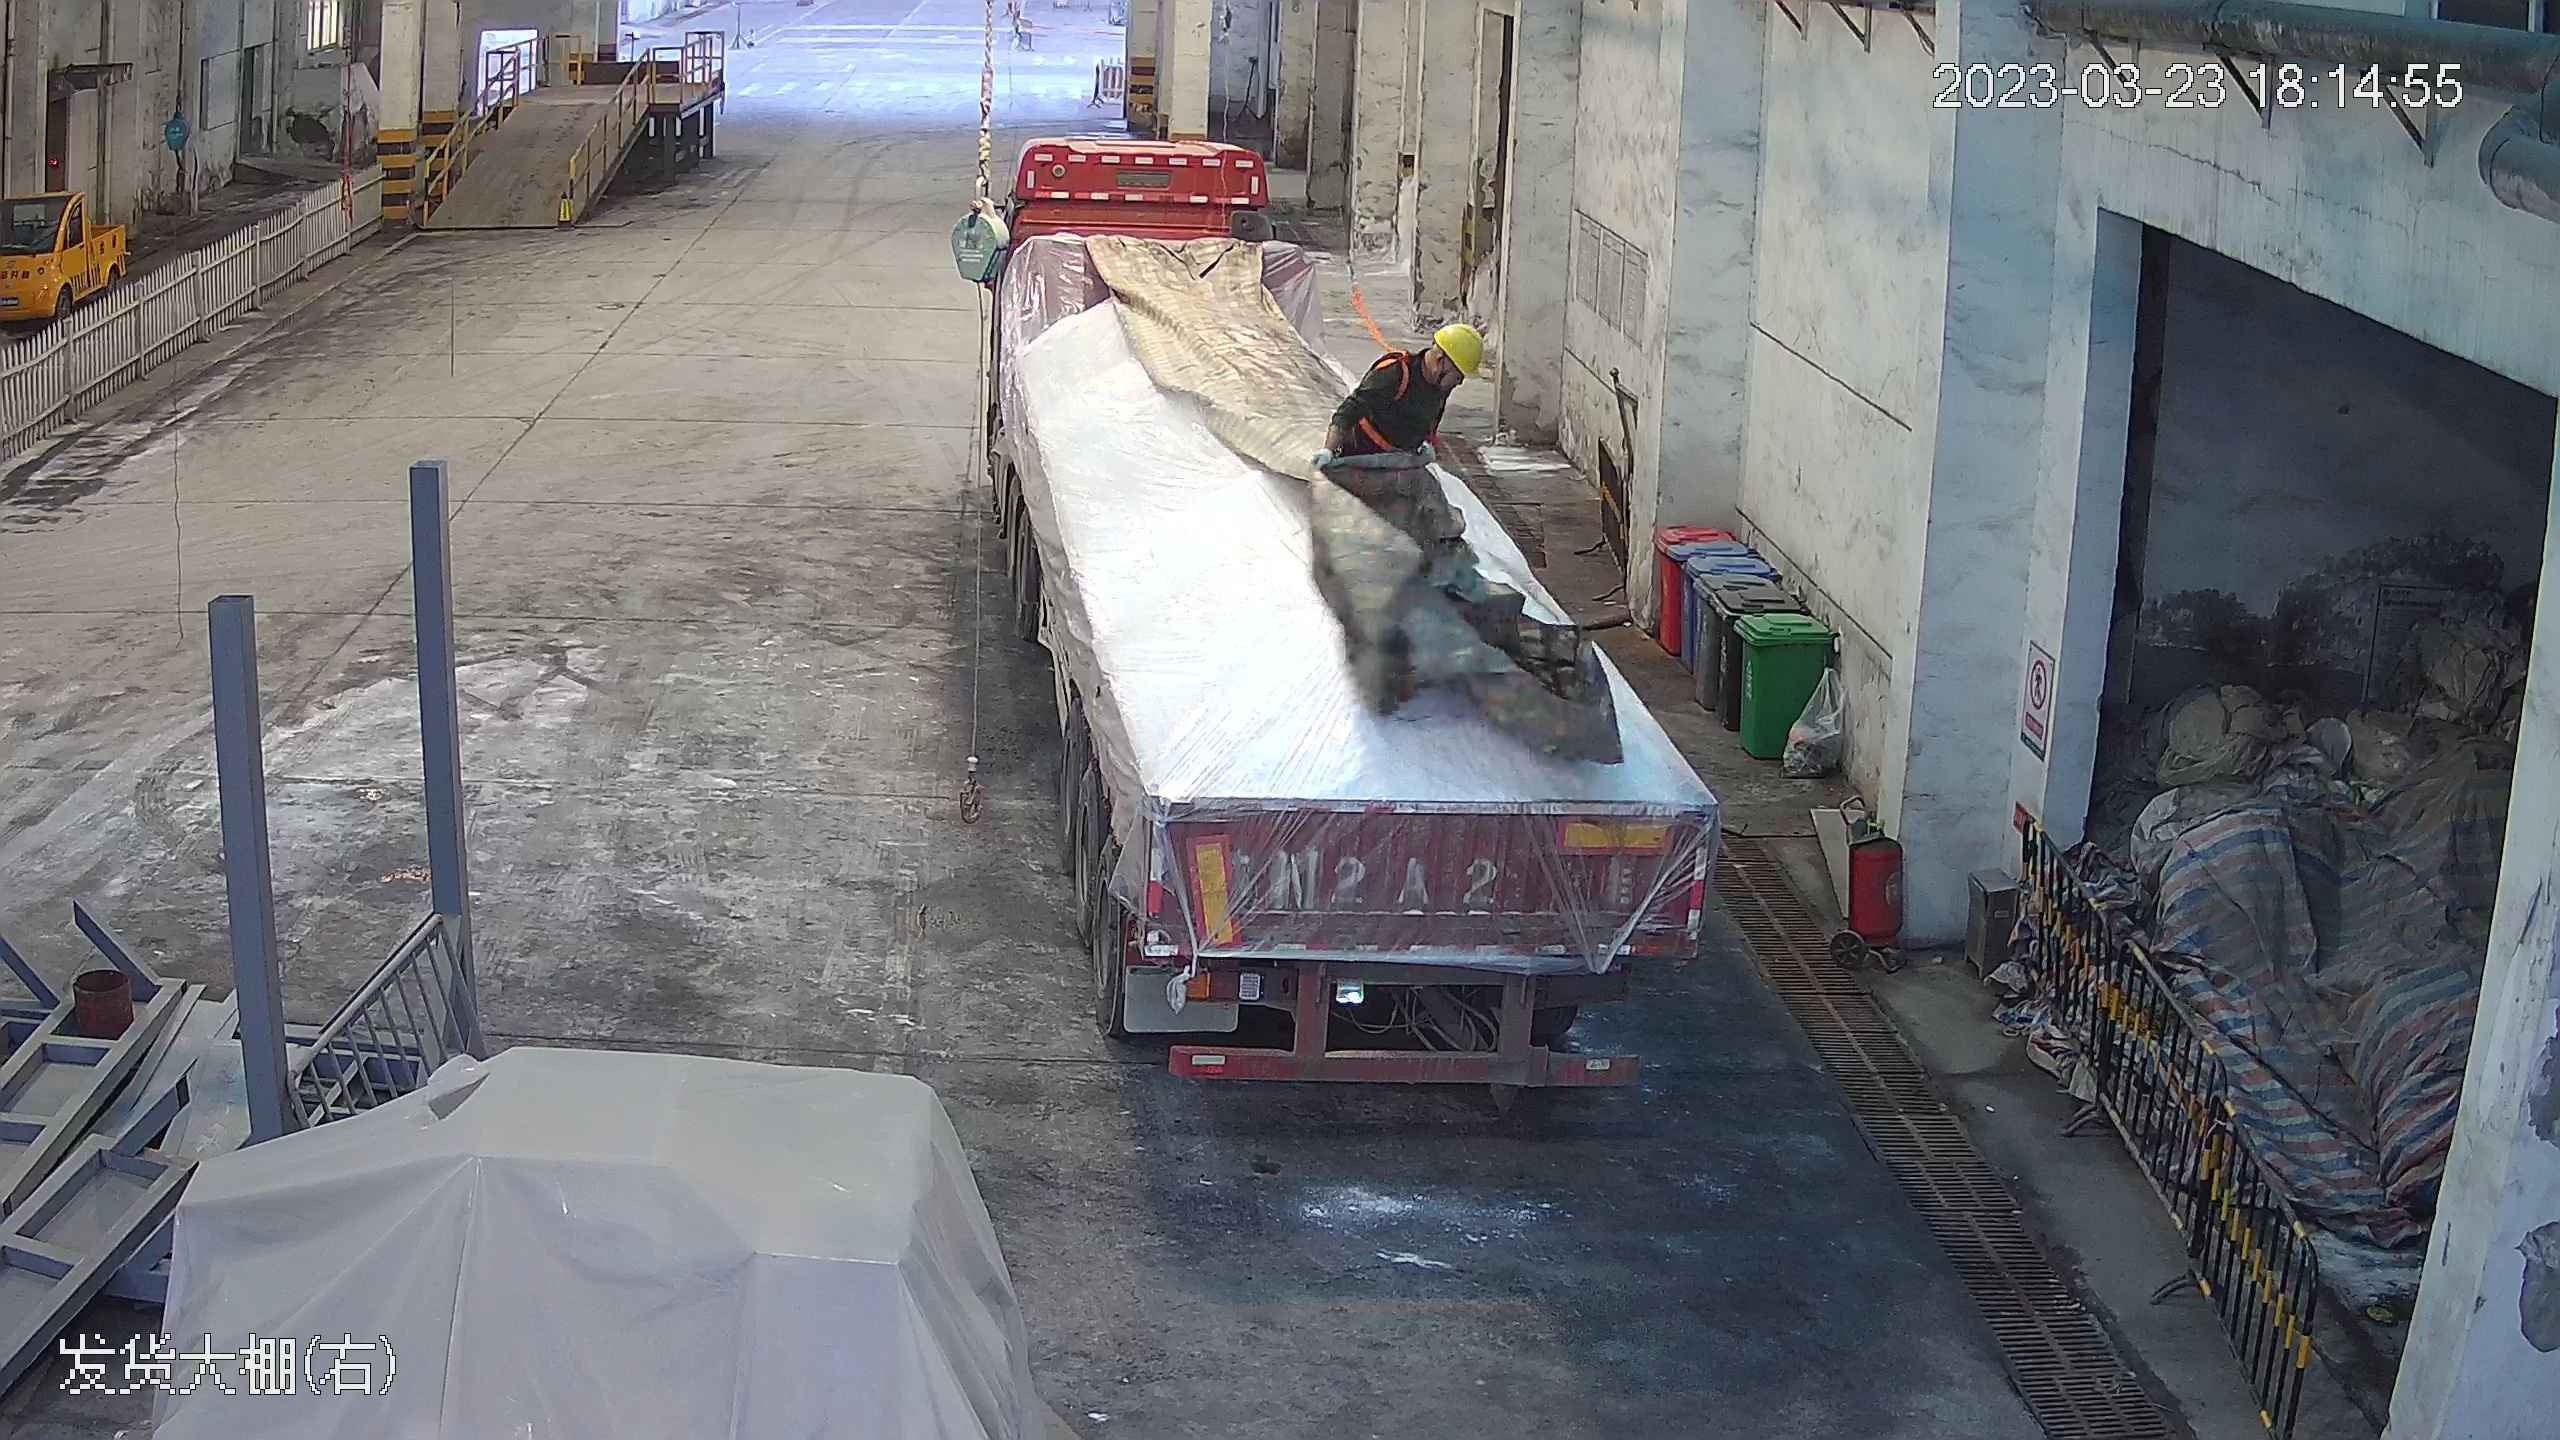belt: (1363, 340, 1434, 427)
head: (1375, 322, 1485, 418)
helmet: (1435, 319, 1490, 380)
truck: (953, 117, 1724, 1108)
